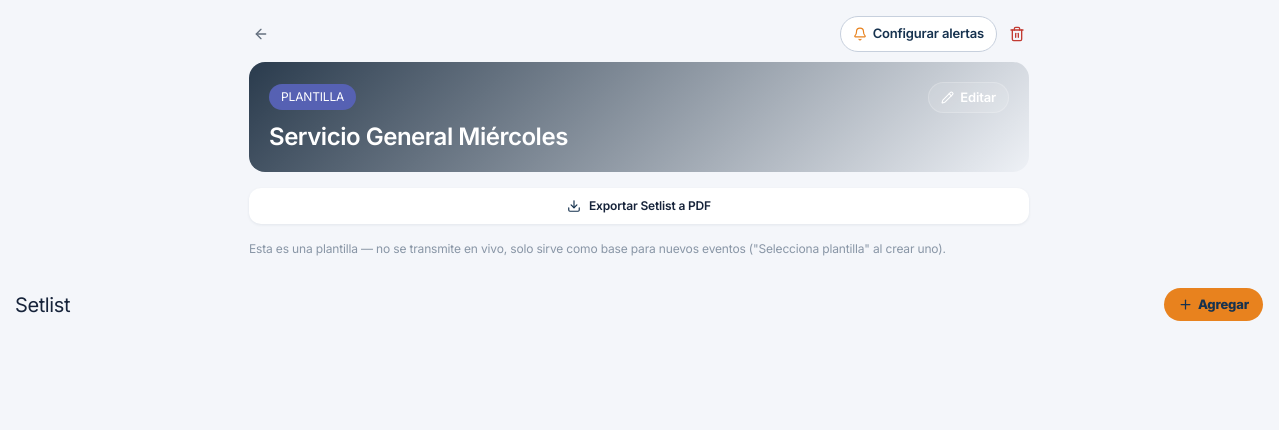
Test: Guardar plantilla › Editar abre el nombre y Guardar lo guarda y vuelve a cerrarse
Step 1. Click the button "Editar" → (969, 97), box [928,82,1009,113]
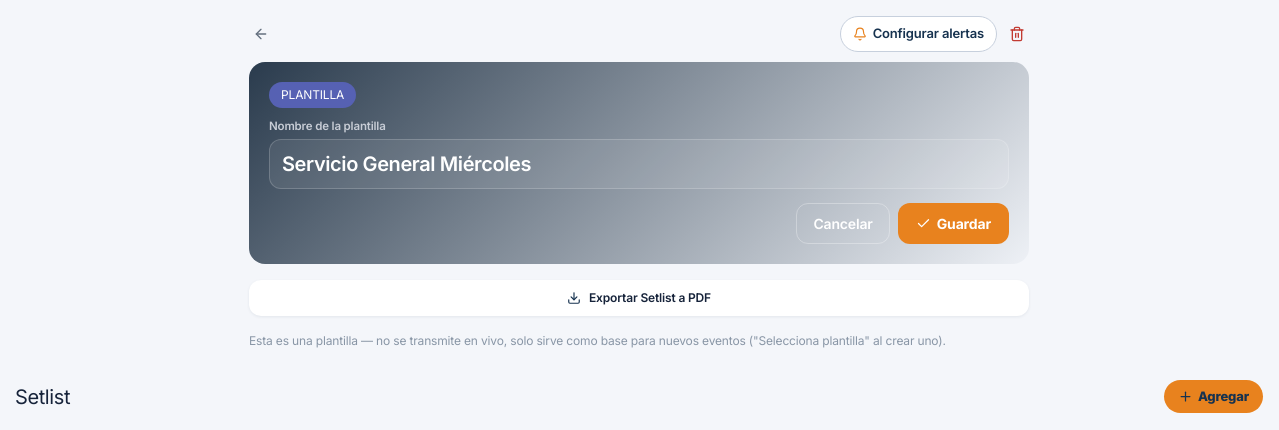
Step 2. Replace the text in the field labelled "Nombre de la plantilla" with "Culto de Miércoles" → (639, 164), box [269,139,1009,189]
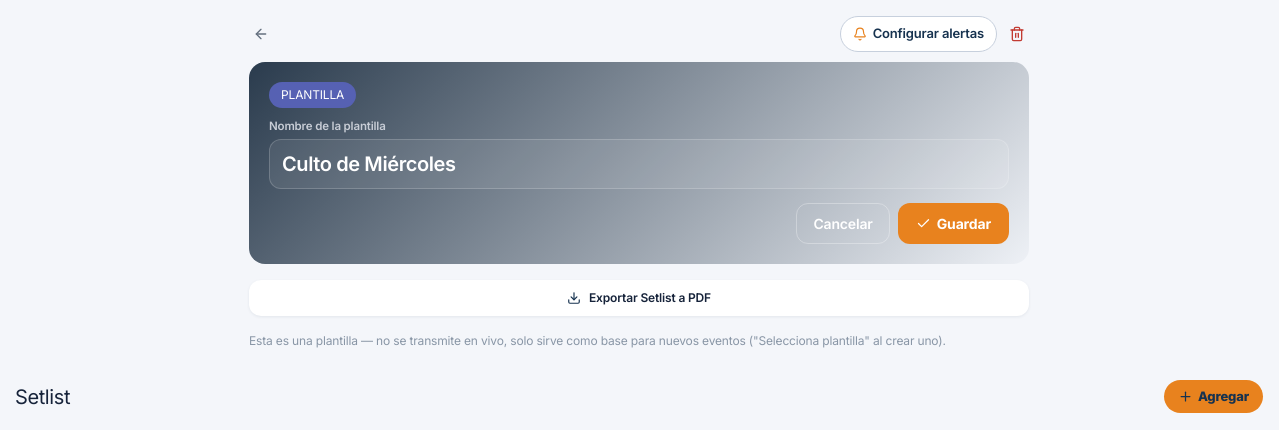
Step 3. Click the button "Guardar" → (953, 223), box [898,203,1009,244]
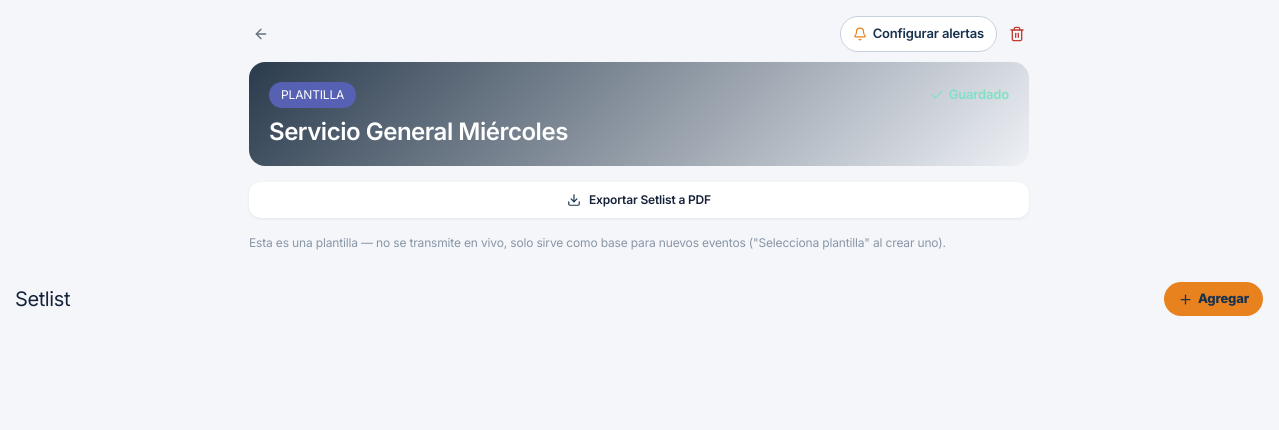
expect the label labelled "Nombre de la plantilla" is gone: met
expect the text "Guardado" is shown: met, box [930,85,1009,104]
